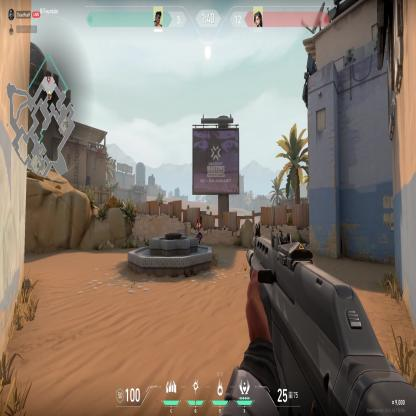enemy: (194, 216, 203, 246)
